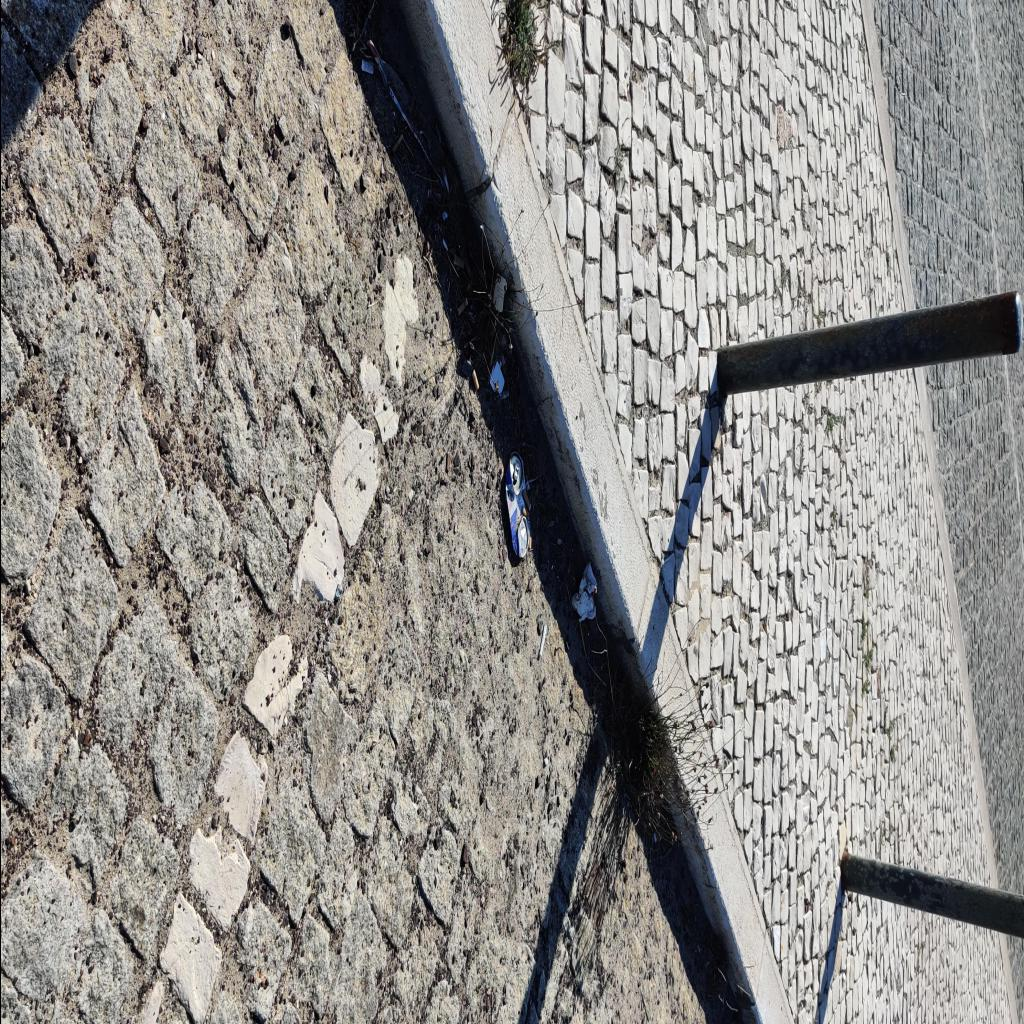Cigarette: (538, 622, 546, 658), (390, 132, 402, 154), (441, 162, 449, 194), (456, 295, 468, 316), (522, 488, 530, 512), (470, 368, 478, 392), (452, 254, 464, 268), (361, 60, 372, 74), (522, 505, 529, 521), (498, 390, 508, 400), (528, 530, 530, 548)
Drink can: (505, 452, 529, 556)
Normal paper: (490, 360, 504, 398), (492, 272, 506, 310)
Plastic film: (366, 39, 454, 187)
Pop tab: (512, 458, 520, 480)
Tissues: (572, 566, 596, 620)
